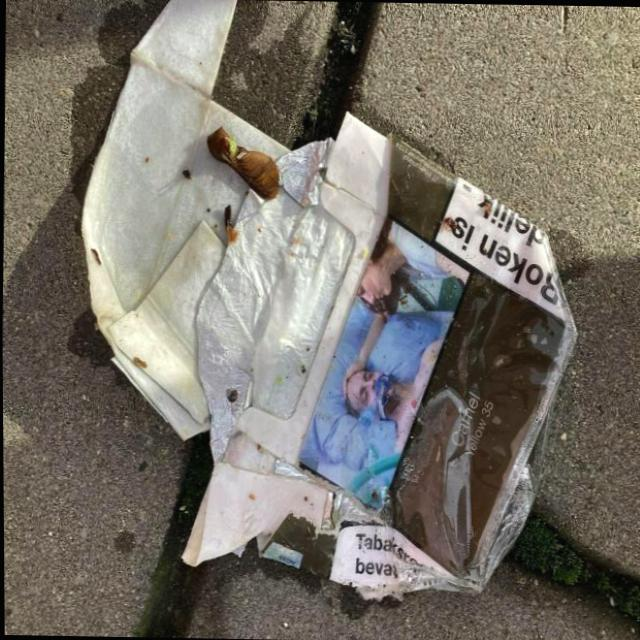Paper: (68, 0, 590, 612)
